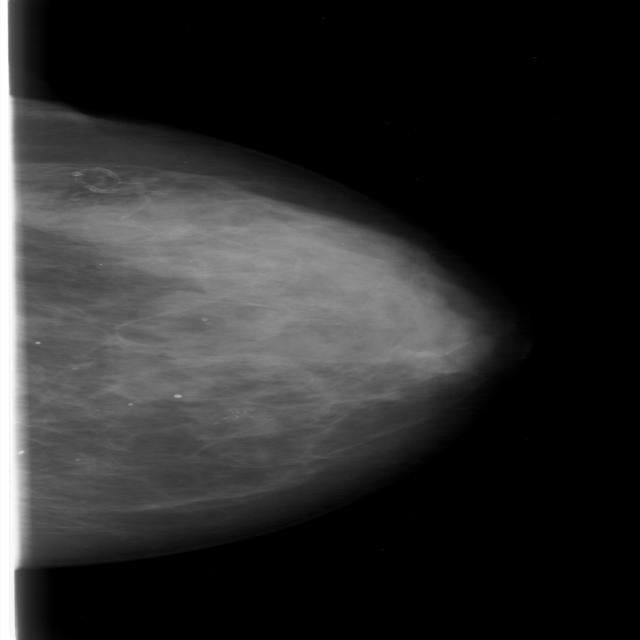normal: (0, 101, 402, 552)
